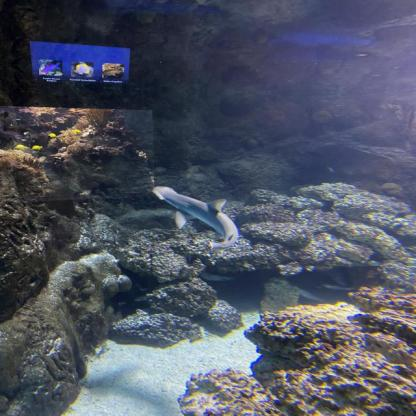shark: (153, 186, 238, 250)
